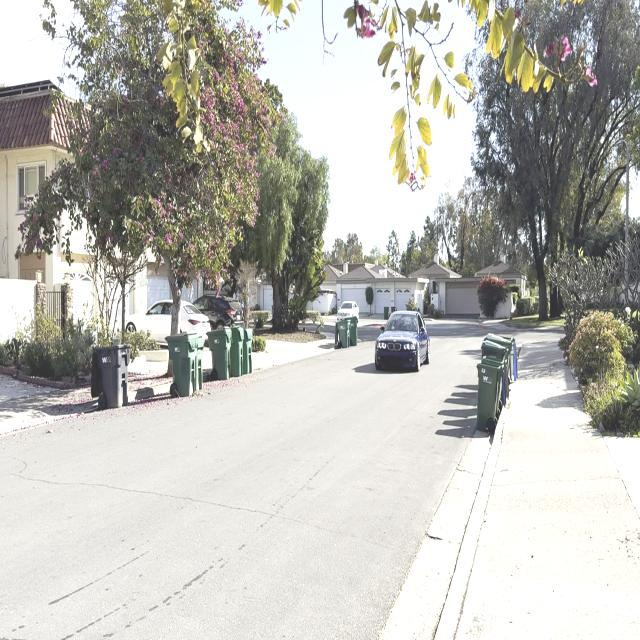Carbeetle: (371, 302, 435, 376)
